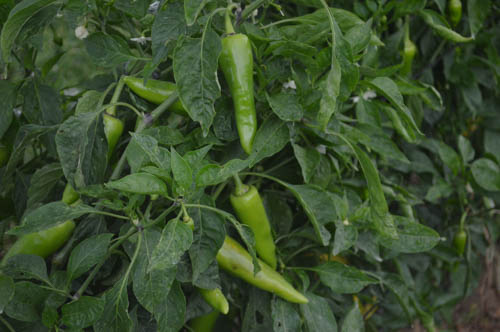ChiliPepper: (218, 239, 308, 300), (62, 116, 120, 203), (220, 35, 257, 146), (230, 190, 276, 260), (123, 69, 188, 108), (8, 223, 73, 257)
